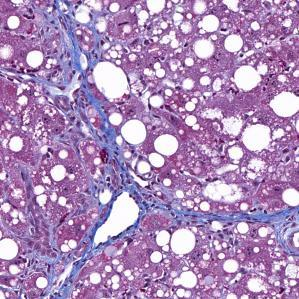fibrosis: (59, 49, 117, 149), (150, 193, 244, 231)
